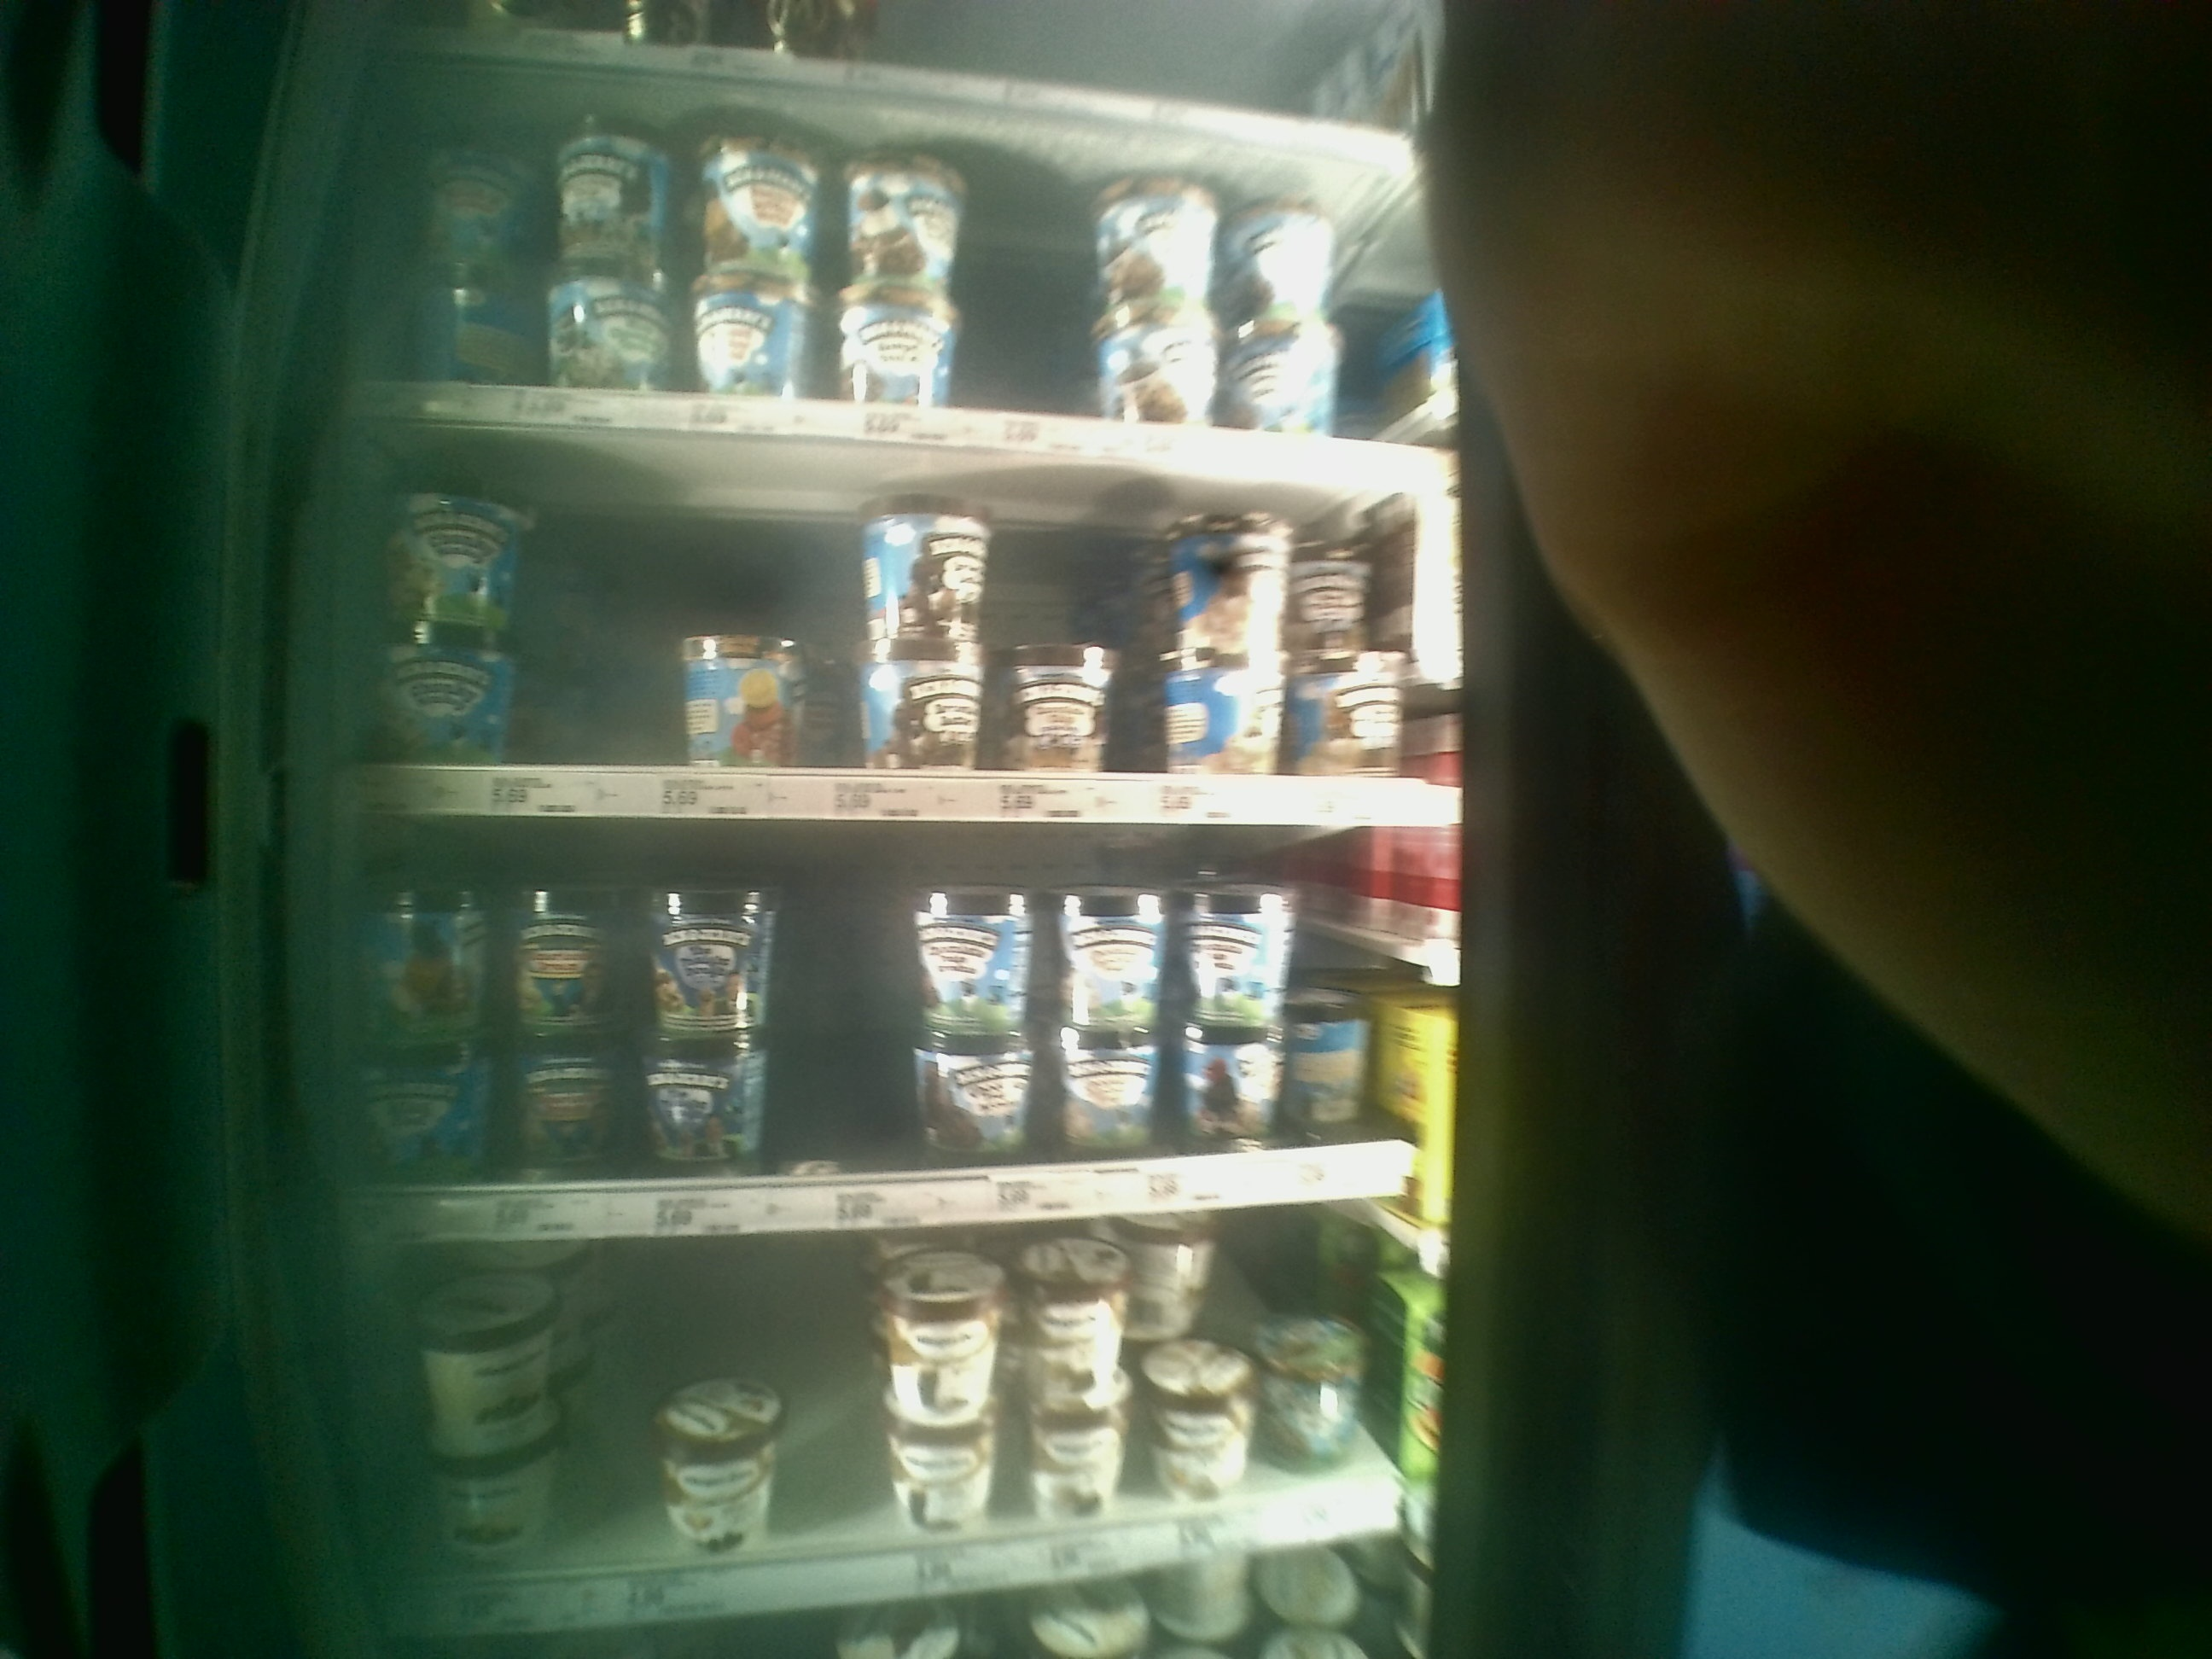ice-cream-shelf: (343, 812, 1433, 1220)
